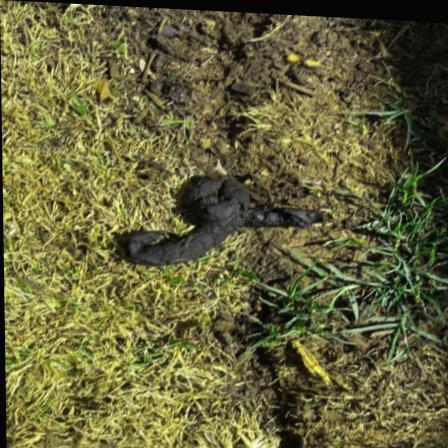dog-poop: (111, 158, 333, 271)
